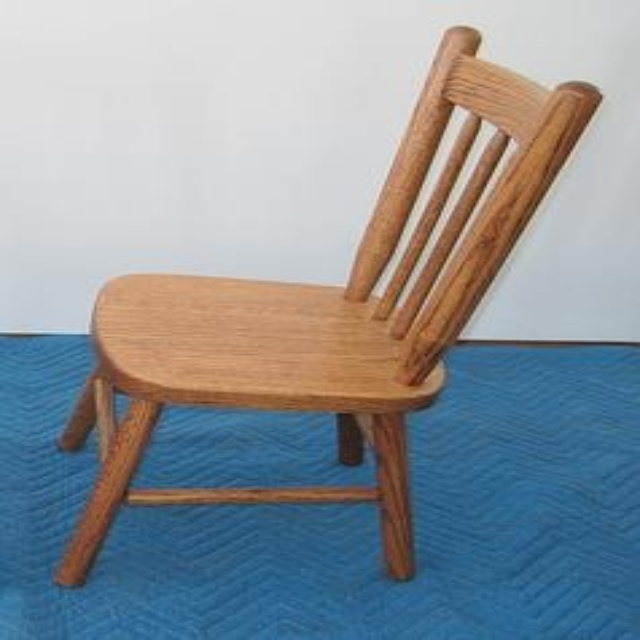obstacle: (54, 27, 600, 582)
